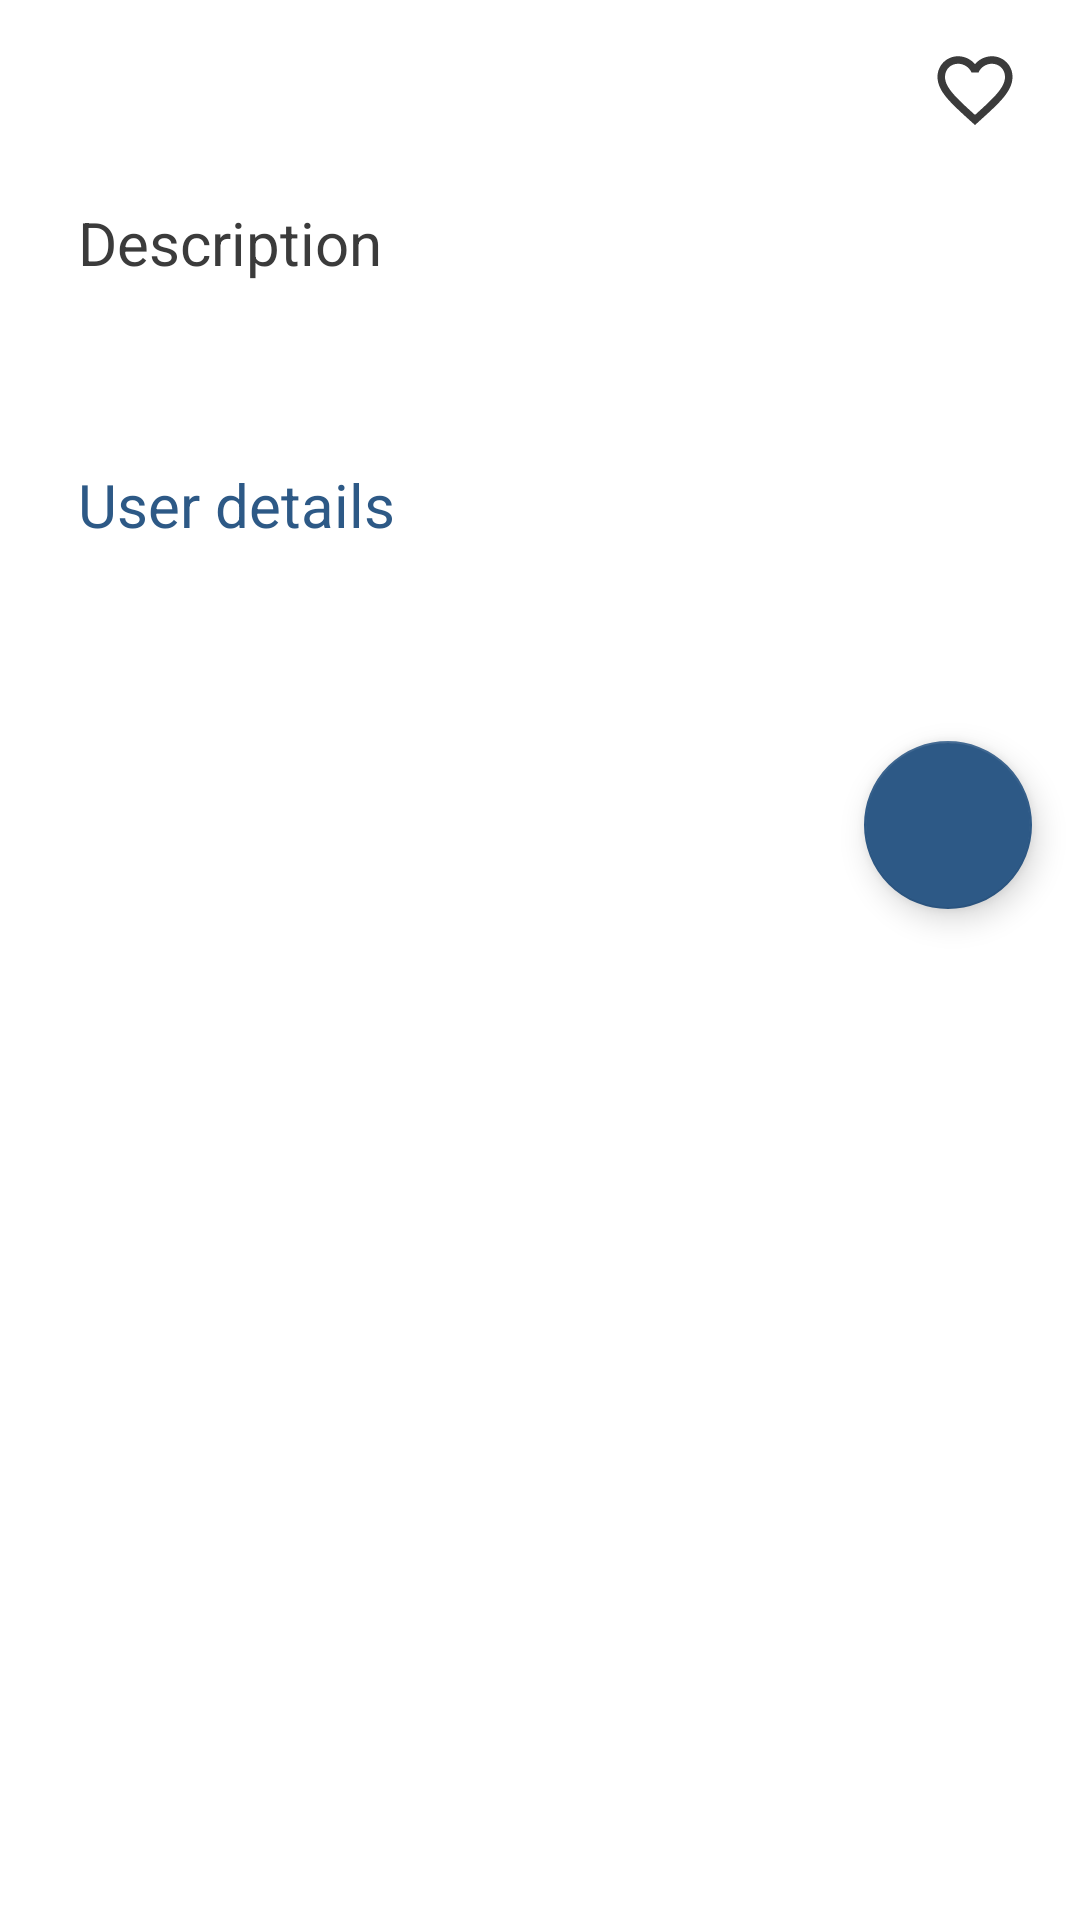

Where to tap for icons on this 1080×1920 app screen, as [x,y]:
favorite: [975,90]
